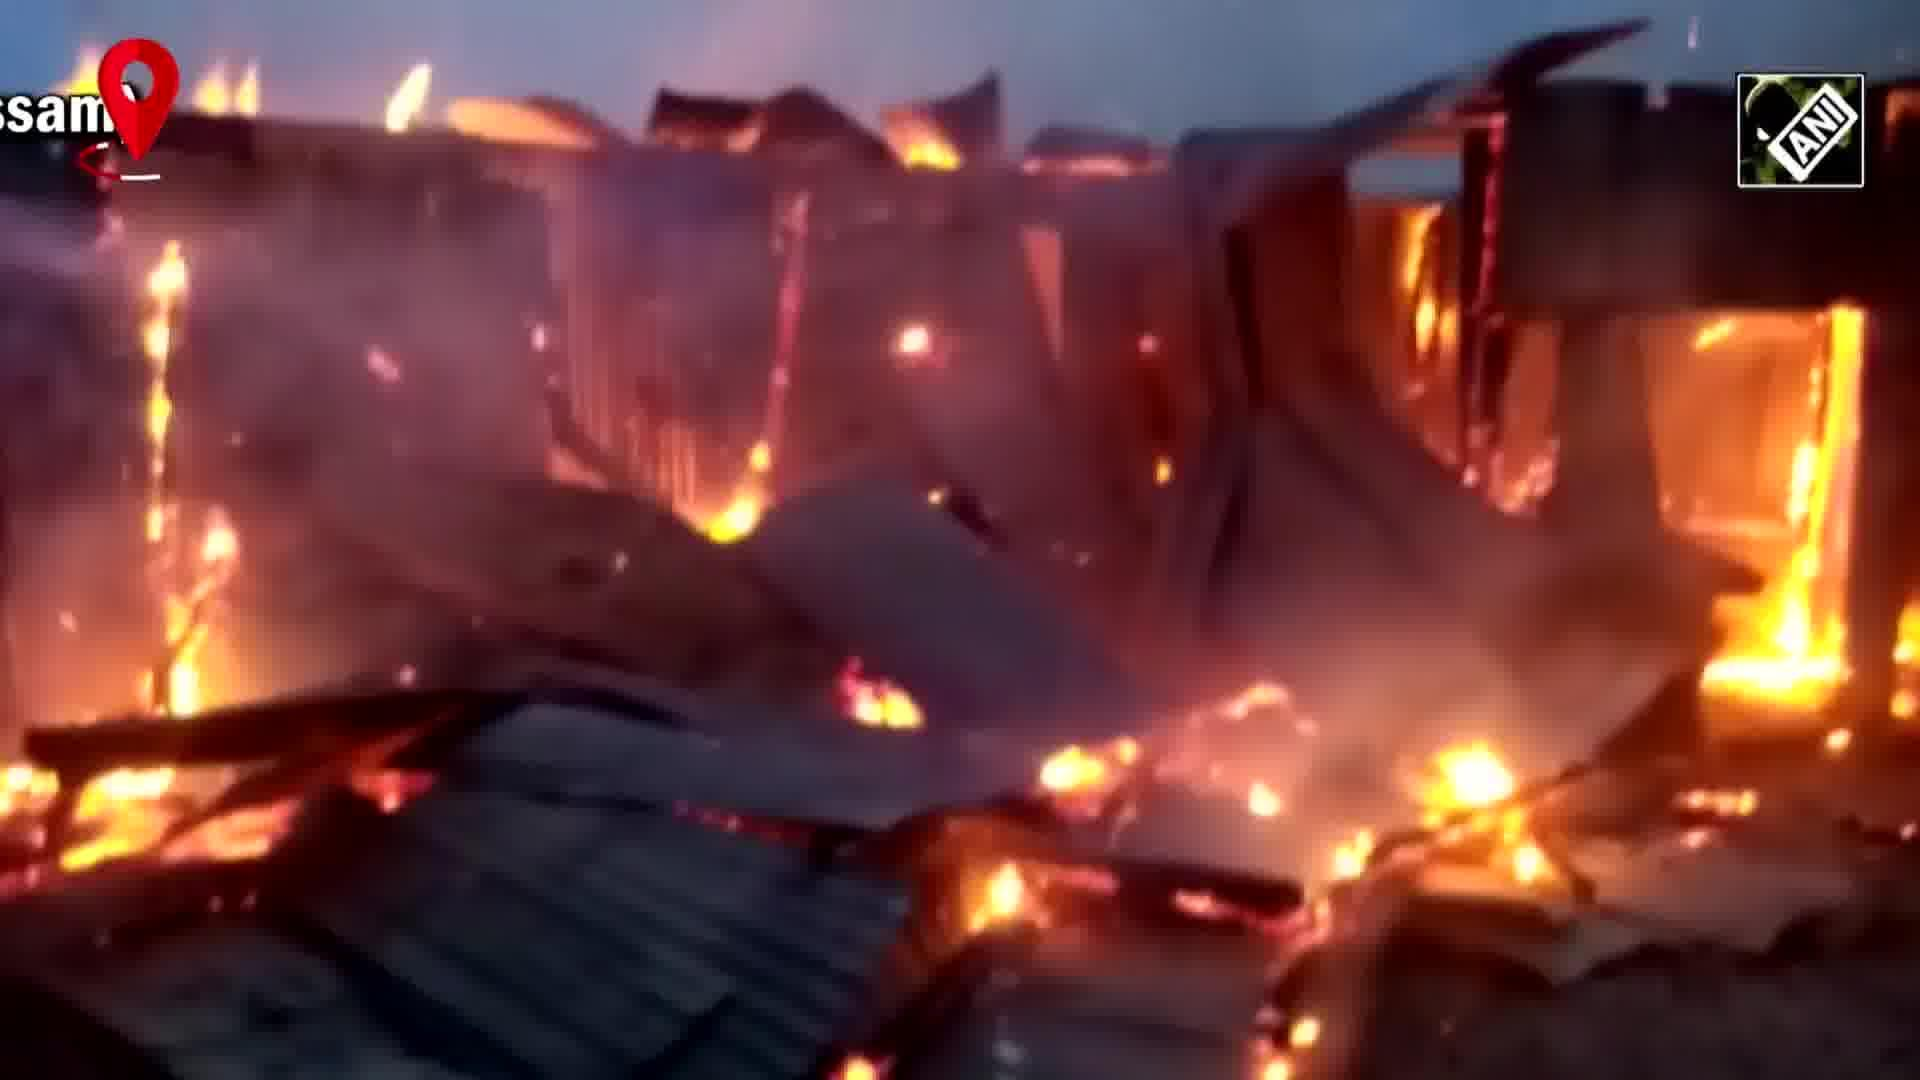fire: (1015, 680, 1590, 1030), (1613, 313, 1912, 756), (87, 235, 276, 778)
